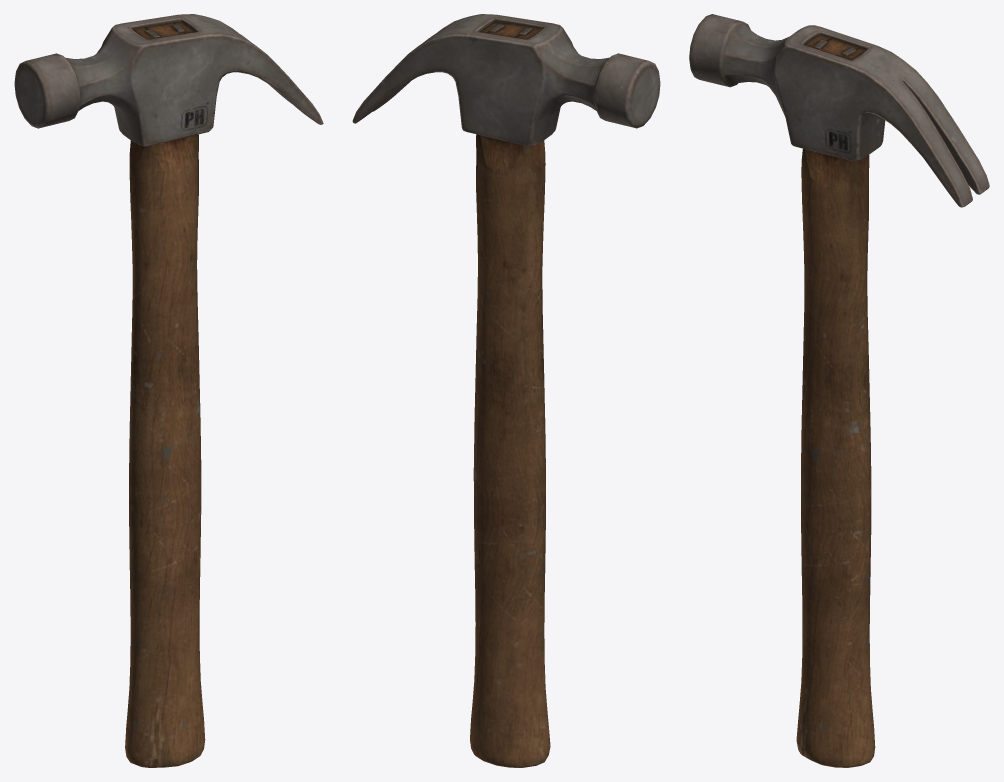
Rendered from wooden_hammer_01.glb.
3 views of the same model, side by side, from view 1: azimuth 30°, elevation 25°; view 2: azimuth 150°, elevation 25°; view 3: azimuth 330°, elevation 25° (orthographic). The views are drawn at different scales.
Visible parts, largest first — view 1: wooden_hammer_01; view 2: wooden_hammer_01; view 3: wooden_hammer_01.
Boxes of the visible parts, x1=… form: wooden_hammer_01: x1=14, y1=14, x2=323, y2=767; wooden_hammer_01: x1=352, y1=14, x2=660, y2=767; wooden_hammer_01: x1=689, y1=14, x2=989, y2=767.
Size of the model in its own units: 0.1118 by 0.2791 by 0.0234.
Materials: 1 (1 with a texture image).
